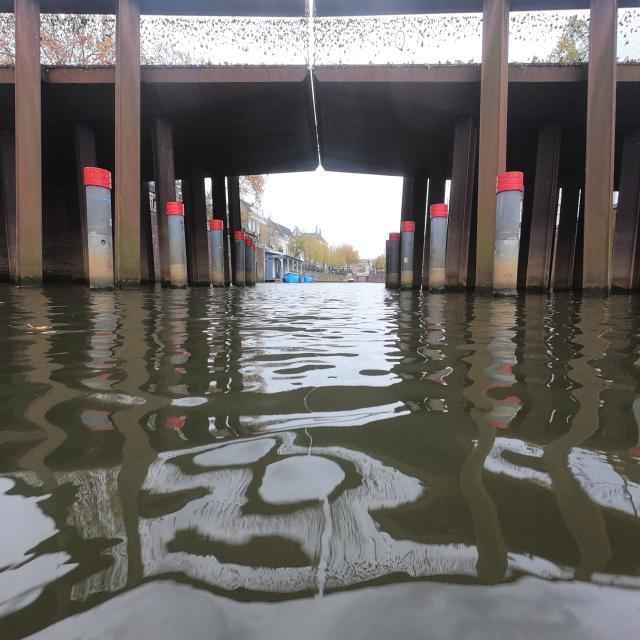boat: (284, 272, 300, 283), (304, 274, 314, 282)
sky: (264, 174, 398, 256)
water: (10, 288, 638, 636)
